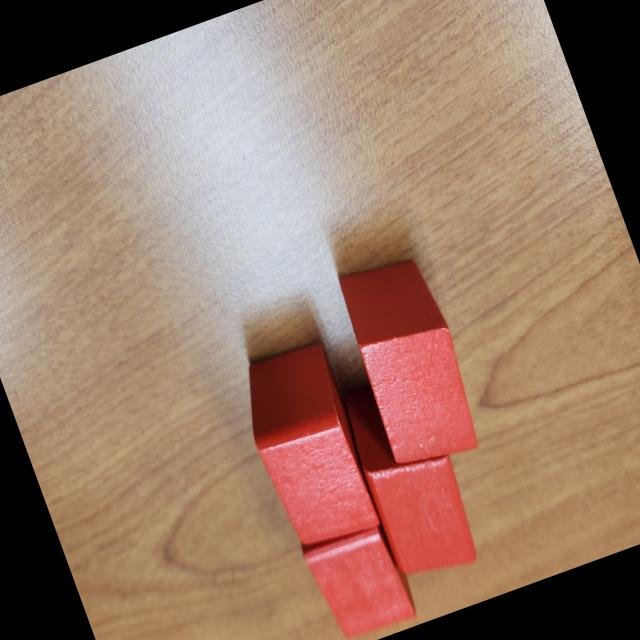red: (330, 247, 492, 476), (228, 338, 391, 560), (334, 368, 489, 595), (296, 509, 423, 640)
